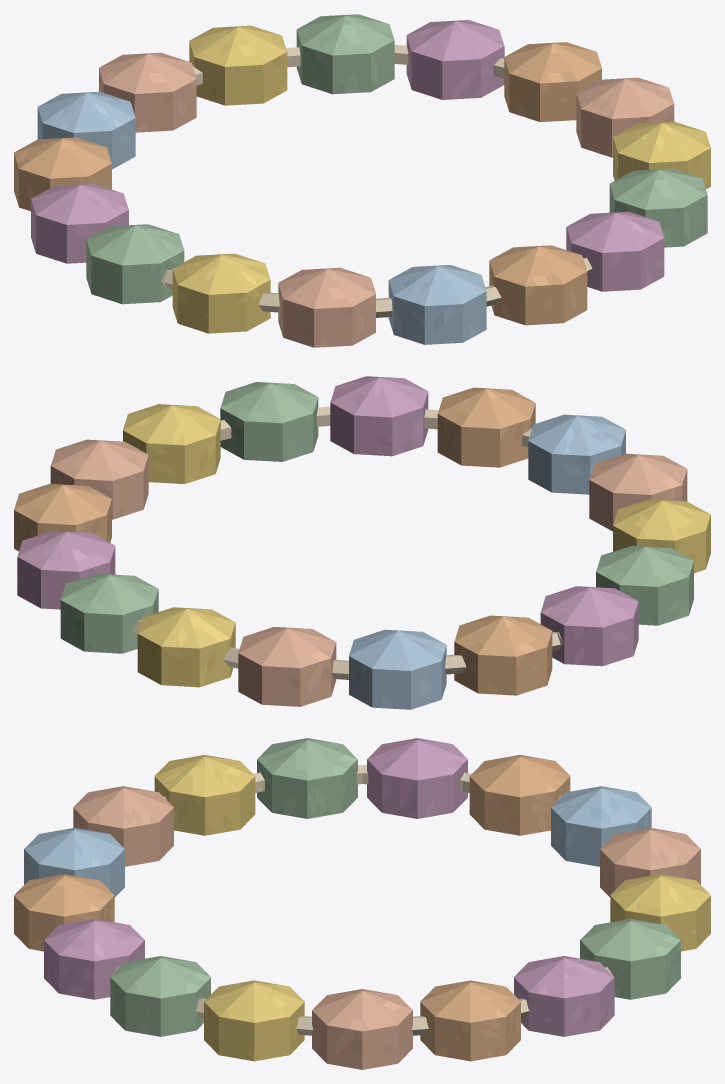
File: candy_bracelet.glb
3 renders of one model, top to bottom at view 1: azimuth 30°, elevation 25°; view 2: azimuth 150°, elevation 25°; view 3: azimuth 270°, elevation 25°, orthographic.
Visible parts, largest first — view 1: block_pastel compressed candy bead (×17); view 2: block_pastel compressed candy bead (×17); view 3: block_pastel compressed candy bead (×17).
Part boxes in pixels (x1,y1,x2,y2): block_pastel compressed candy bead (×17): [14, 14, 710, 347]; block_pastel compressed candy bead (×17): [14, 376, 710, 709]; block_pastel compressed candy bead (×17): [14, 738, 710, 1069].
Size of the model in its own units: 0.0737 by 0.00901 by 0.074.
1 material, 1 textured.
